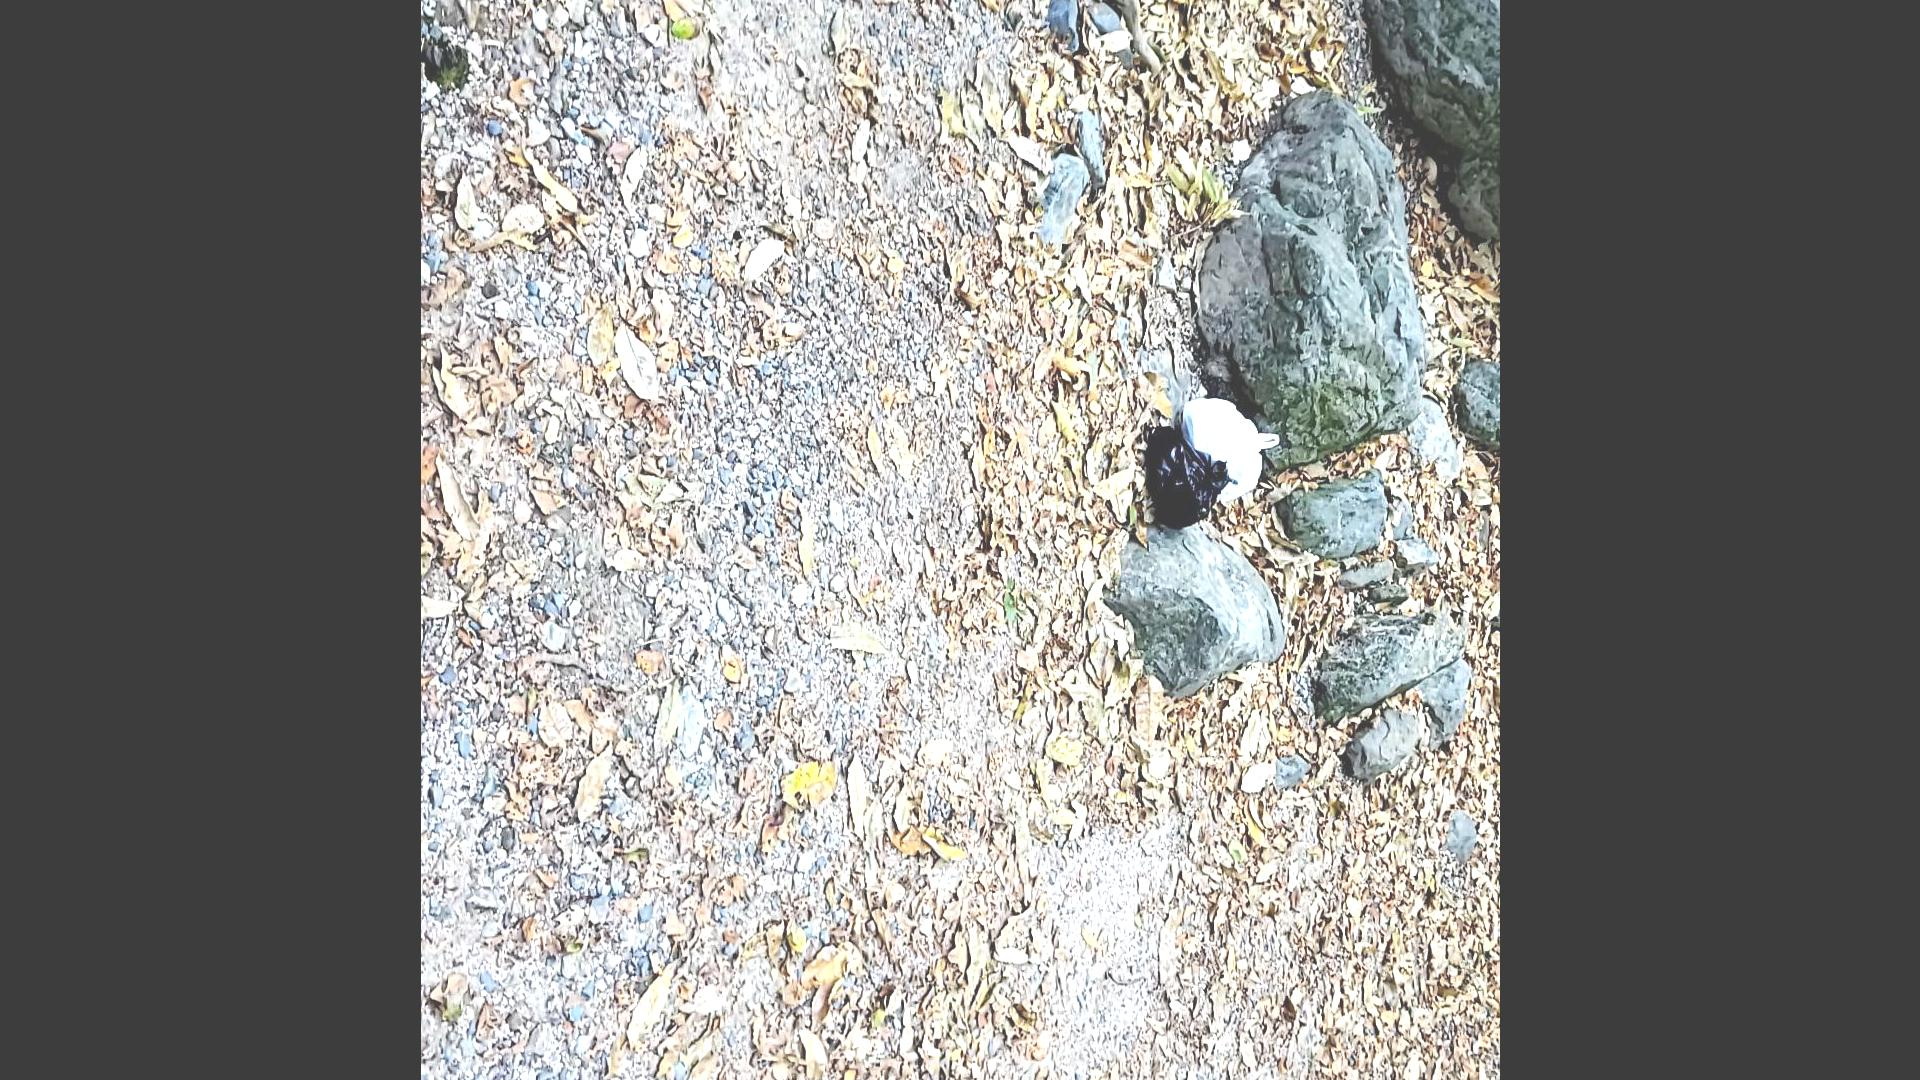black_bag: (1143, 417, 1232, 535)
white_bag: (1179, 392, 1282, 508)
